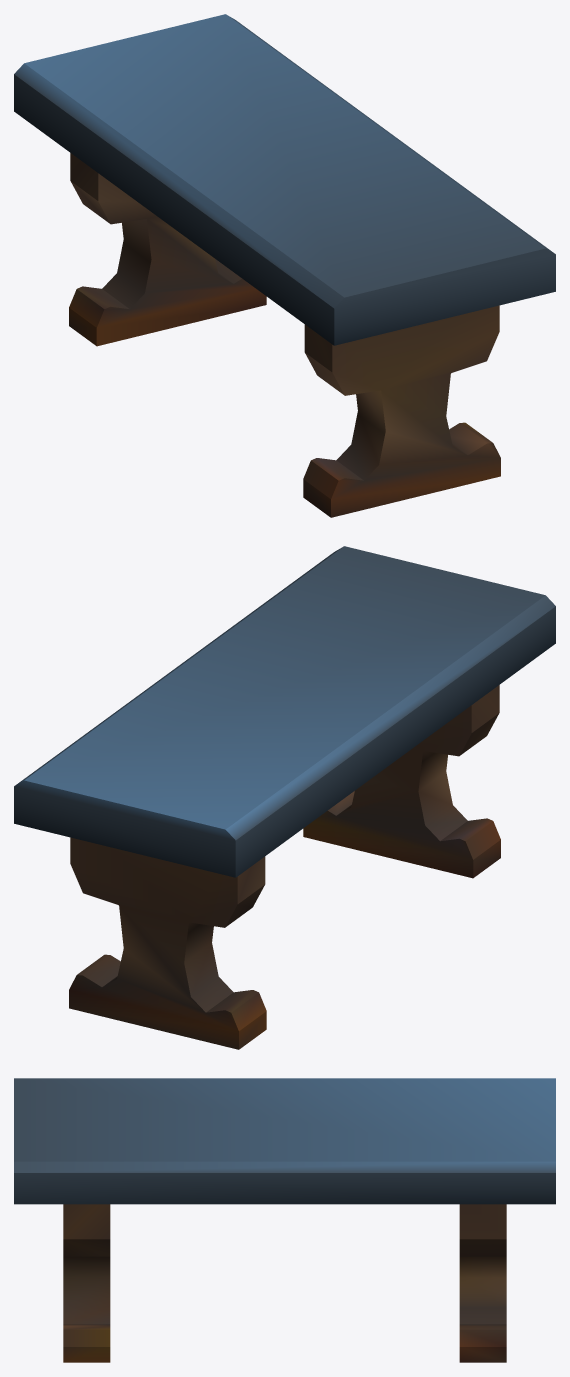
File: Furniture_BenchAShort.fbx
The picture shows the model from 3 angles, top to bottom: view 1: azimuth 30°, elevation 25°; view 2: azimuth 150°, elevation 25°; view 3: azimuth 270°, elevation 25°; orthographic projection. The views are drawn at different scales.
Parts seen in each view (by area): view 1: Furniture_BenchAShort; view 2: Furniture_BenchAShort; view 3: Furniture_BenchAShort.
Boxes of the visible parts, x1,y1,x2,y2 form: Furniture_BenchAShort: (14, 14, 555, 517); Furniture_BenchAShort: (14, 546, 555, 1049); Furniture_BenchAShort: (14, 1078, 555, 1362).
Bounding box in the file's own units: 50 × 52.85 × 125.
